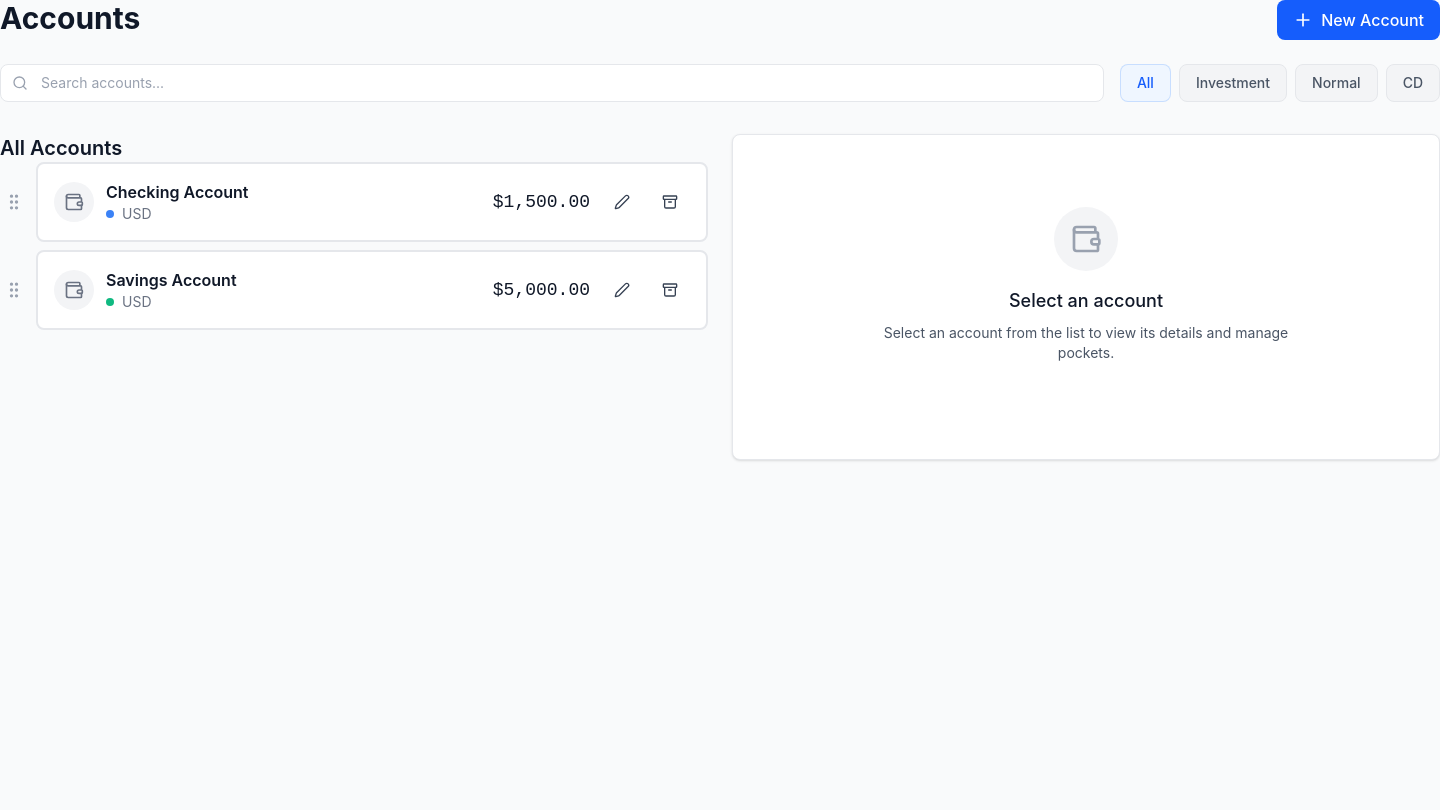
AccountsPage › opens the create modal when the header "New Account" button is clicked
Click the button with aria-label "create new account" at (1359, 20), box [1277, 0, 1439, 40]
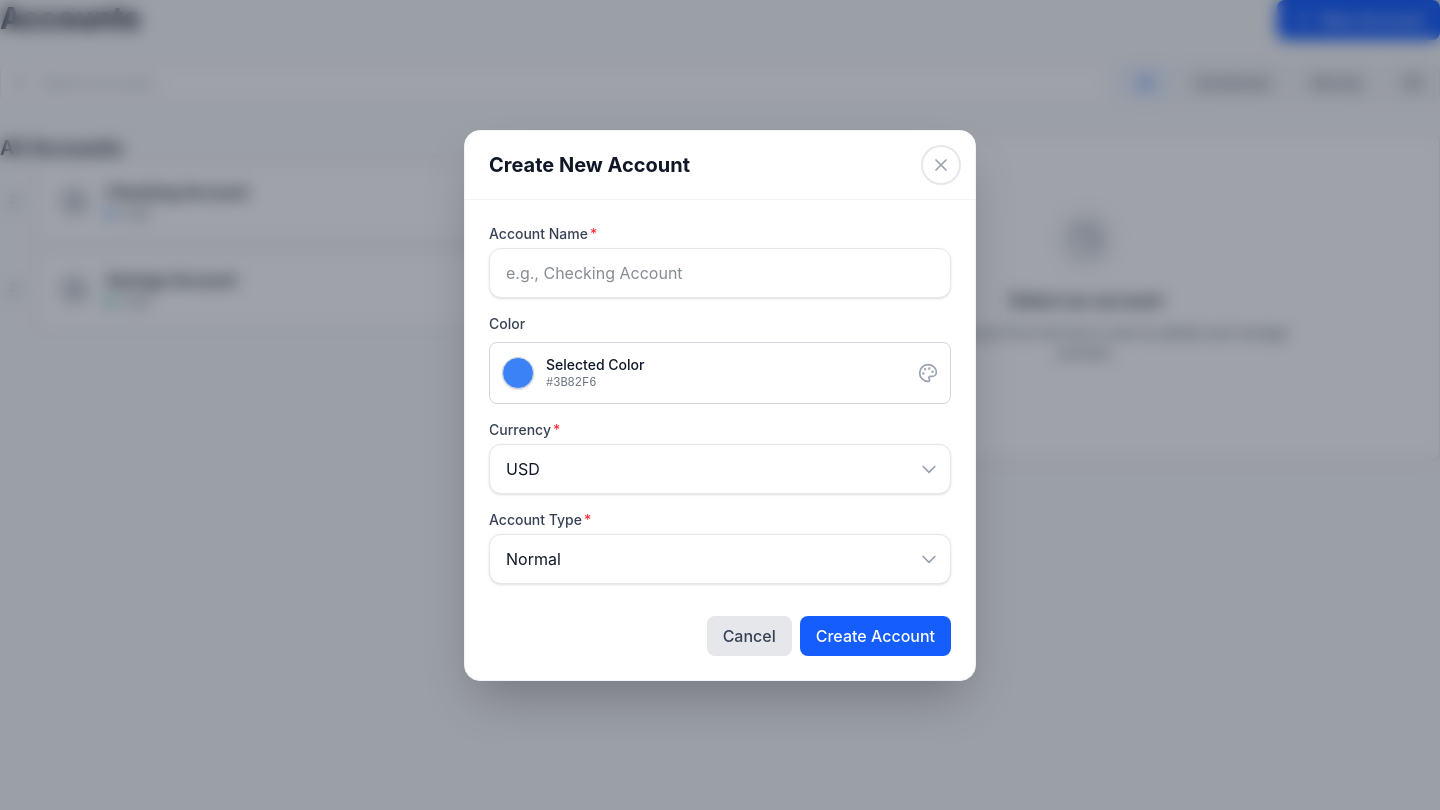
Expected: the heading "Create New Account" is shown, [489, 150, 690, 178]
Expected: the field labelled "Account Name*" is shown, [489, 248, 951, 298]
